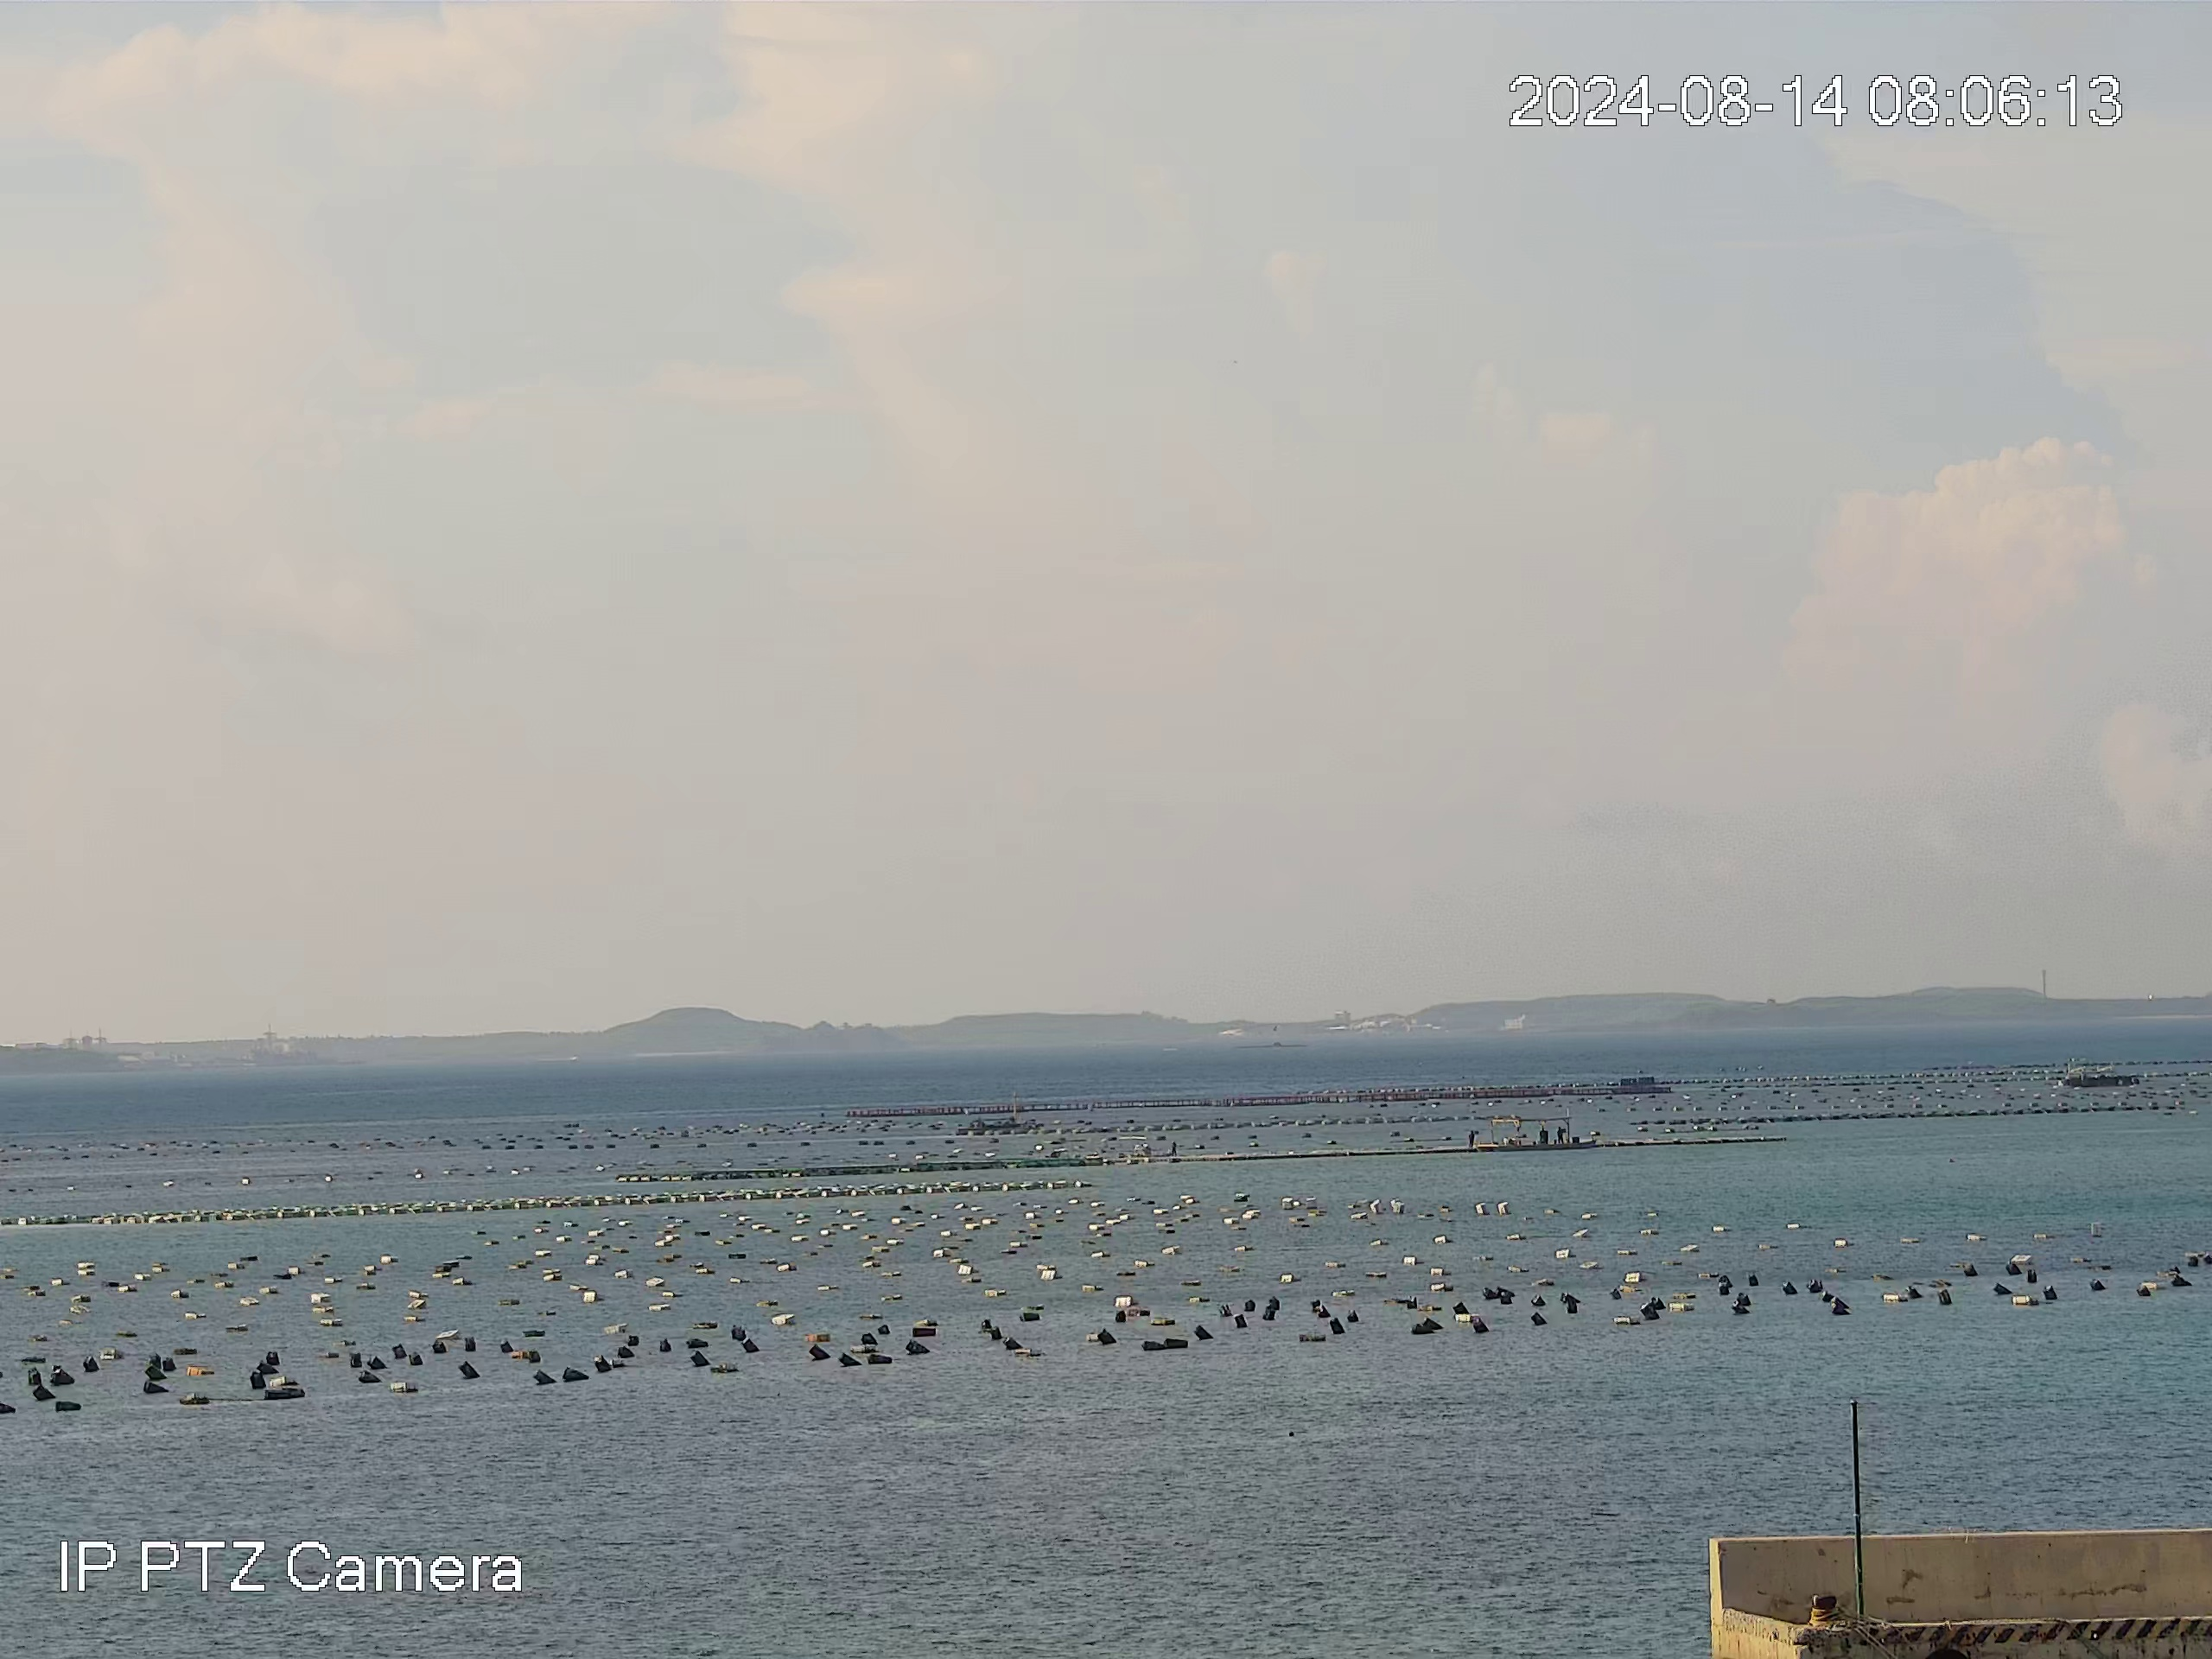boat: (1477, 1109, 1600, 1151), (2058, 1058, 2147, 1092)
